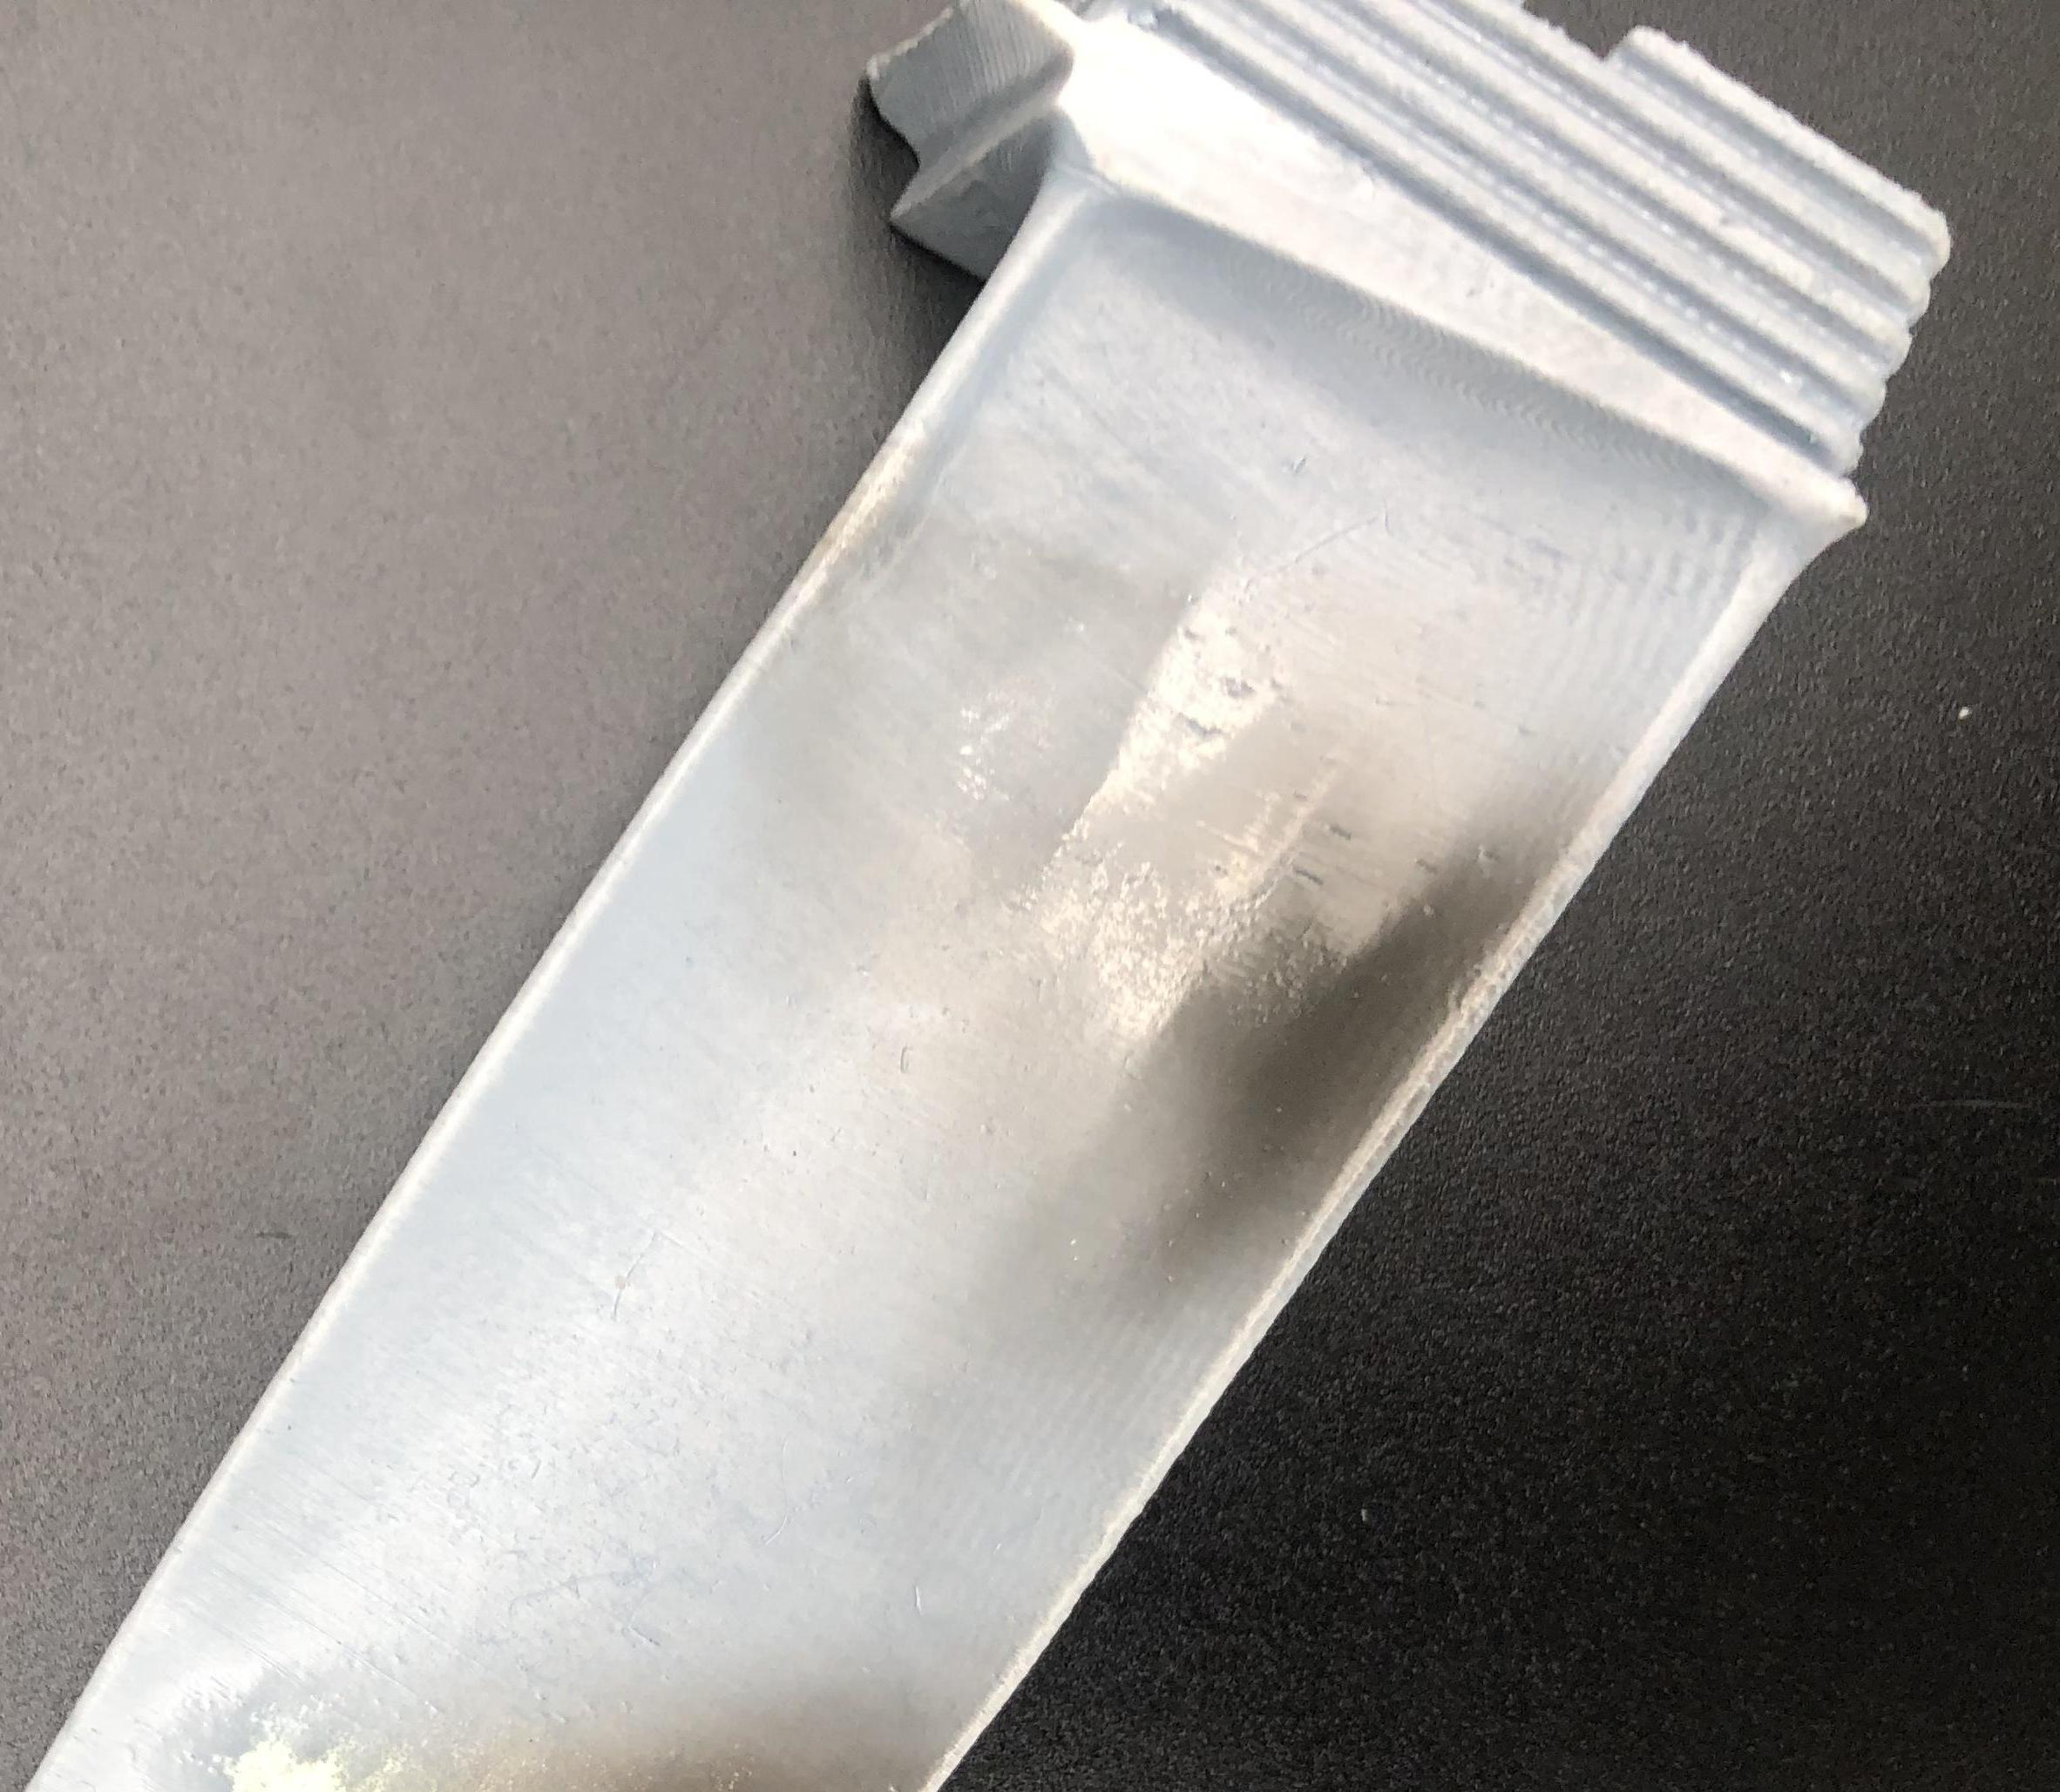ablation: (963, 645, 1473, 1133), (392, 1729, 930, 1792)
